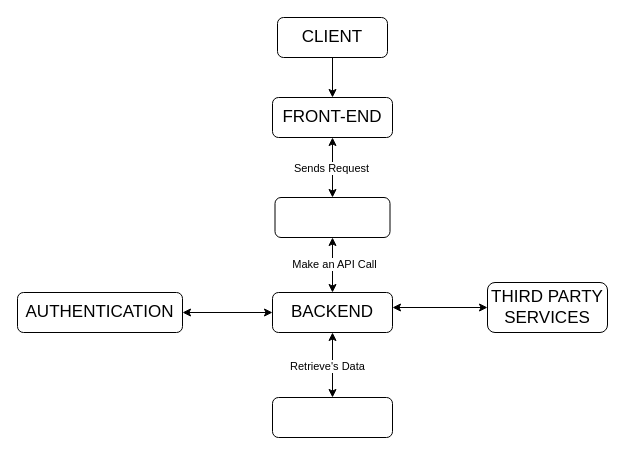
Some shapes in this 625 by 455 pixel diagram are drawn without their labels. Here are the shapes that lost their labels. From the top down, the centre of each, then its label:
At [332,217]: "API".
At [332,417]: "DATABASE".
